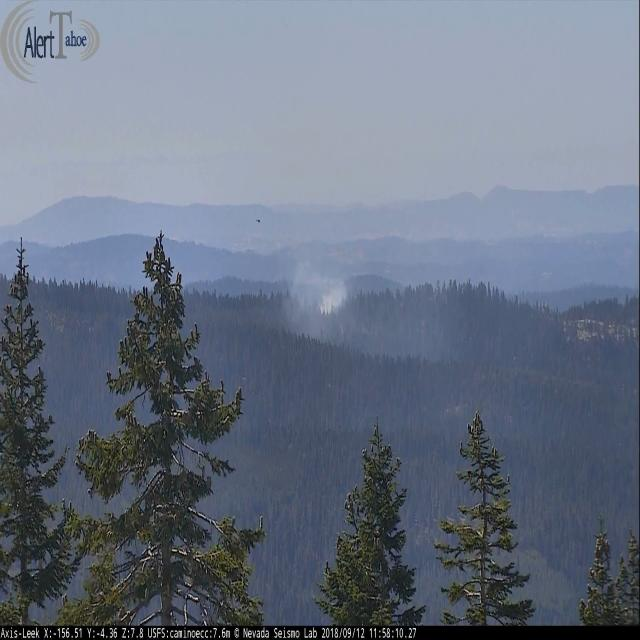smoke: (280, 252, 350, 329)
